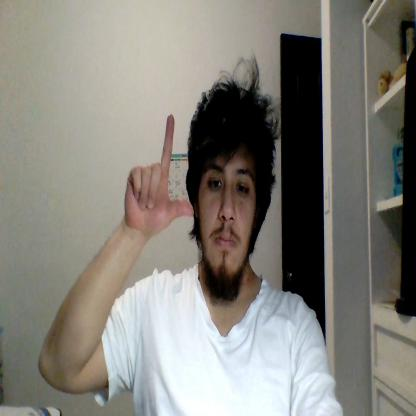L: (124, 115, 194, 237)
